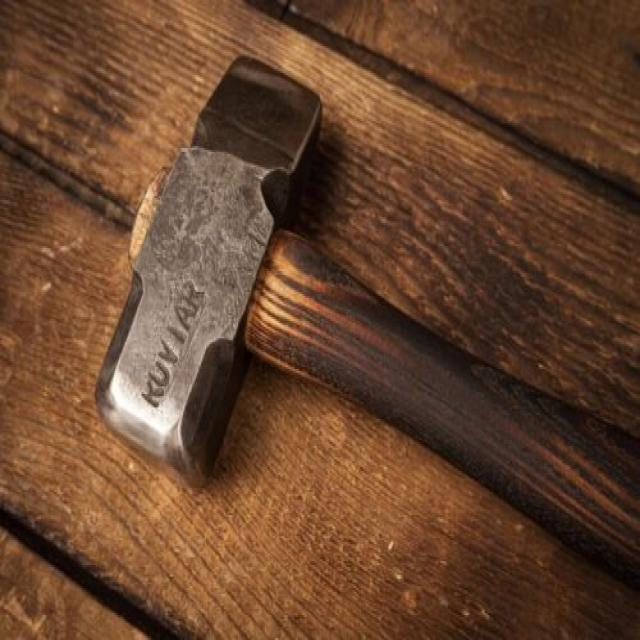hammer: (87, 41, 640, 599)
